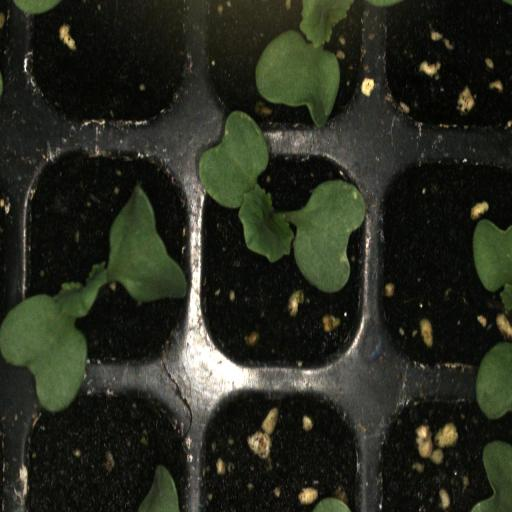seedling: (11, 128, 196, 383), (194, 132, 372, 376), (200, 0, 370, 129)
